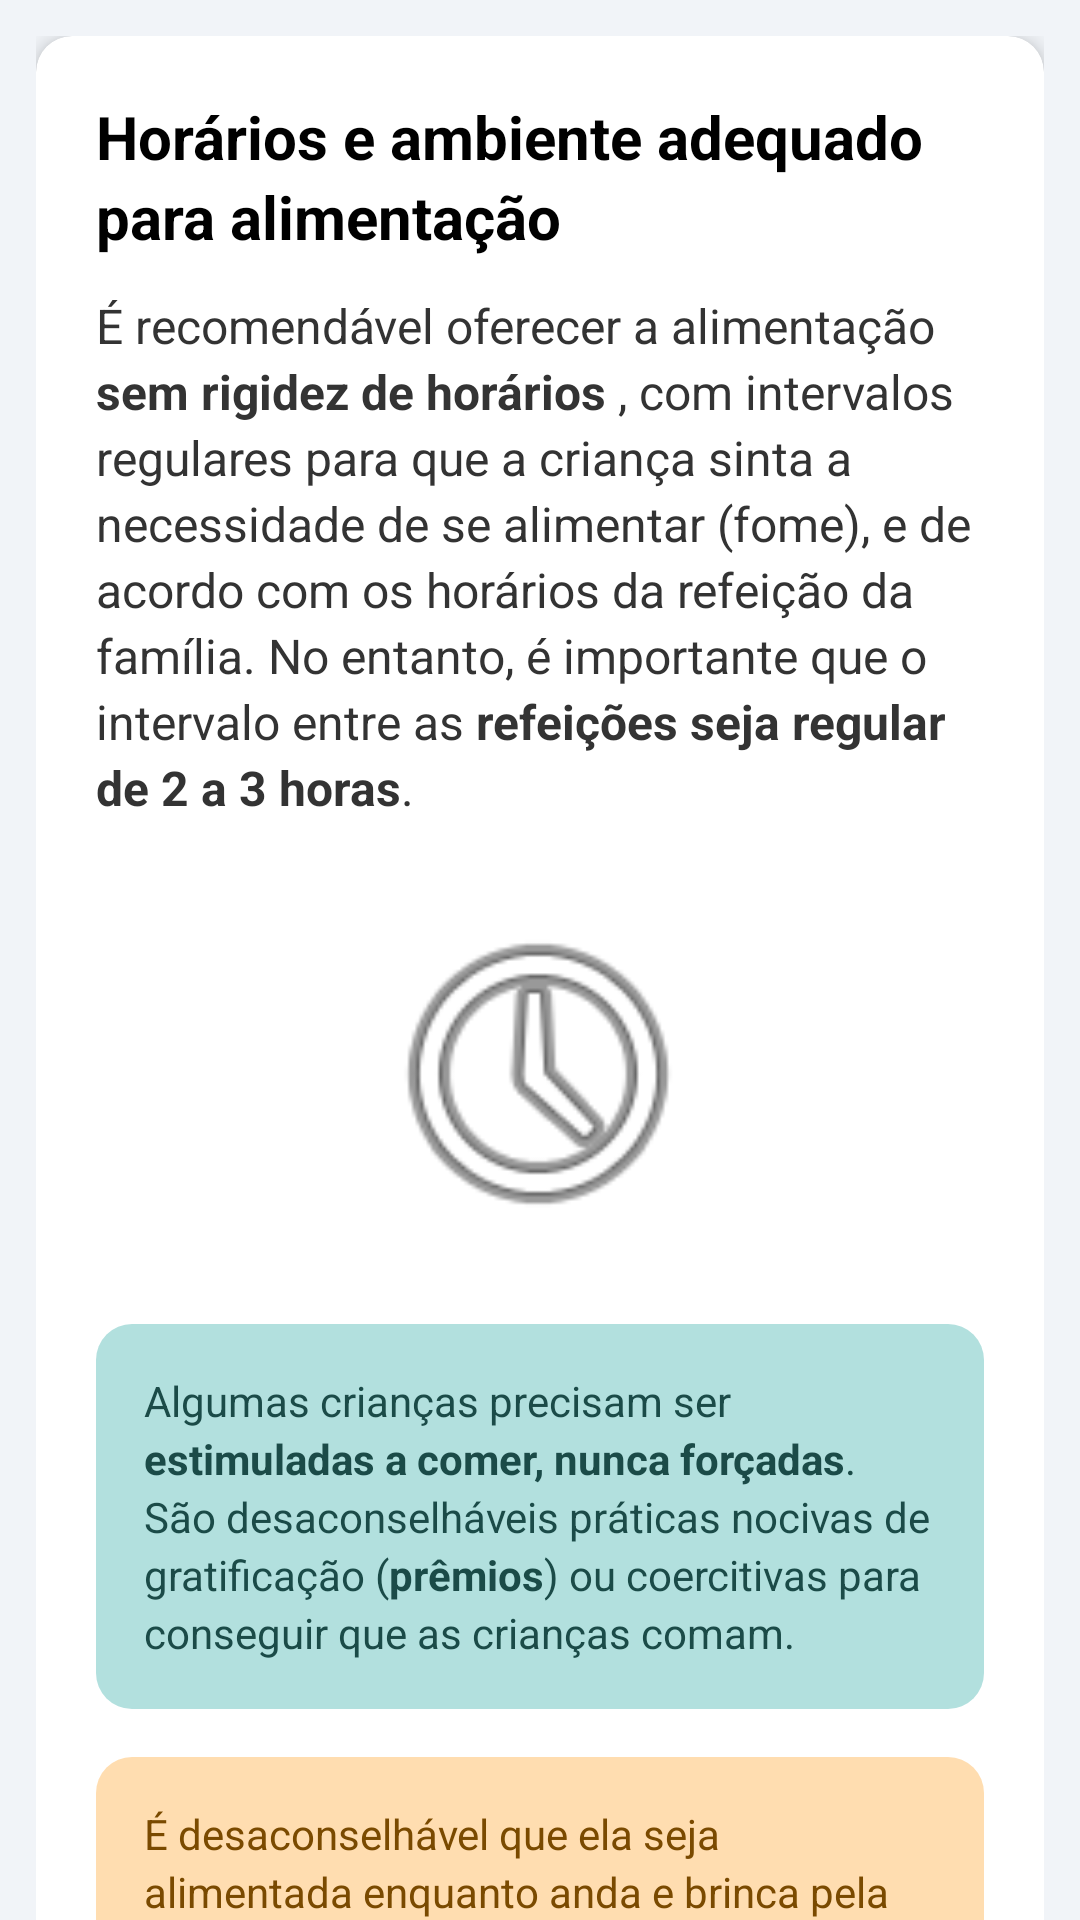

Point at icon controls on the screen. Image size 1080px×1920px, points as point (x, y).
Ilustração de relógio: point (538, 1073)
